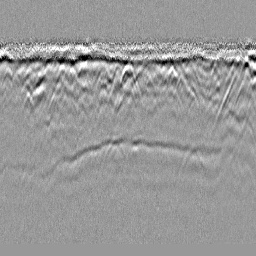cavity: (112, 63, 143, 113)
